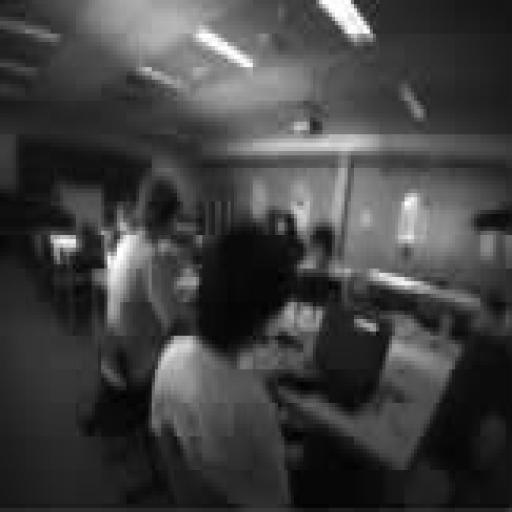human: (152, 223, 293, 507), (83, 177, 183, 432), (301, 223, 335, 272)
